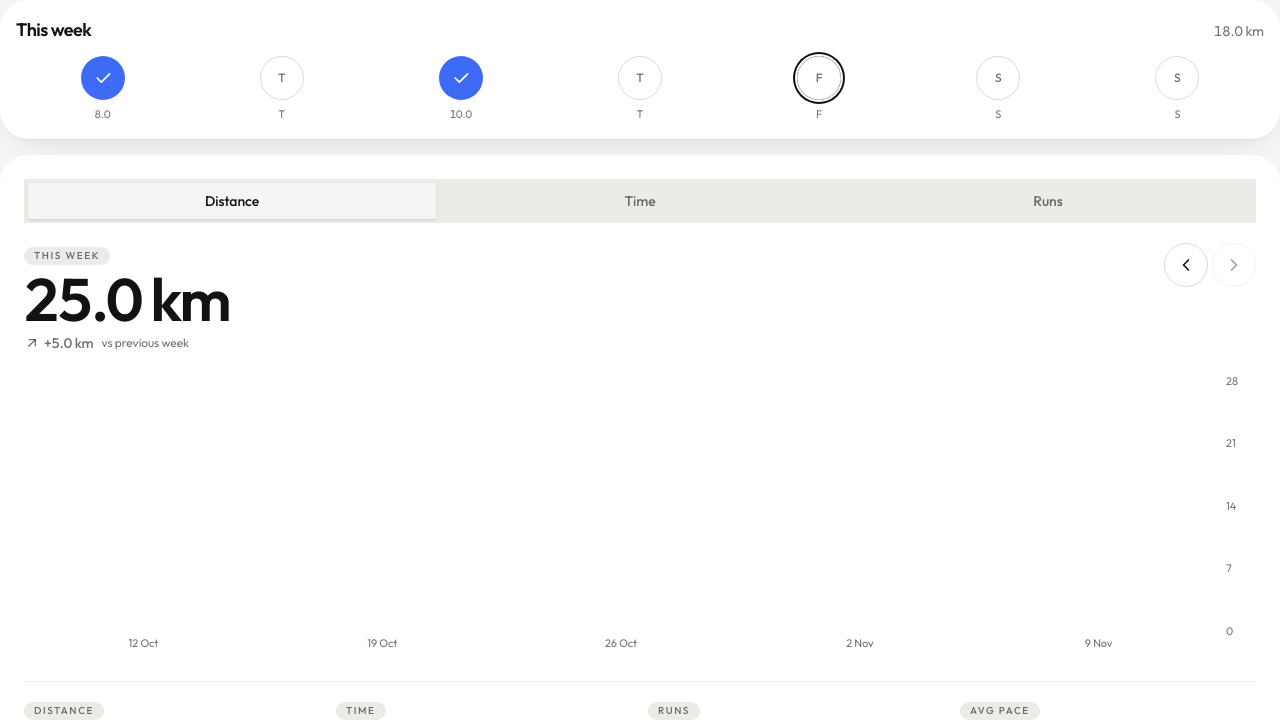
Test: ProgressHero › cannot step before the first week, which has no previous to compare
The image size is (1280, 720).
Click the button with test id "hero-previous" at (1186, 264), box top-left (1164, 242), bottom-right (1208, 286)
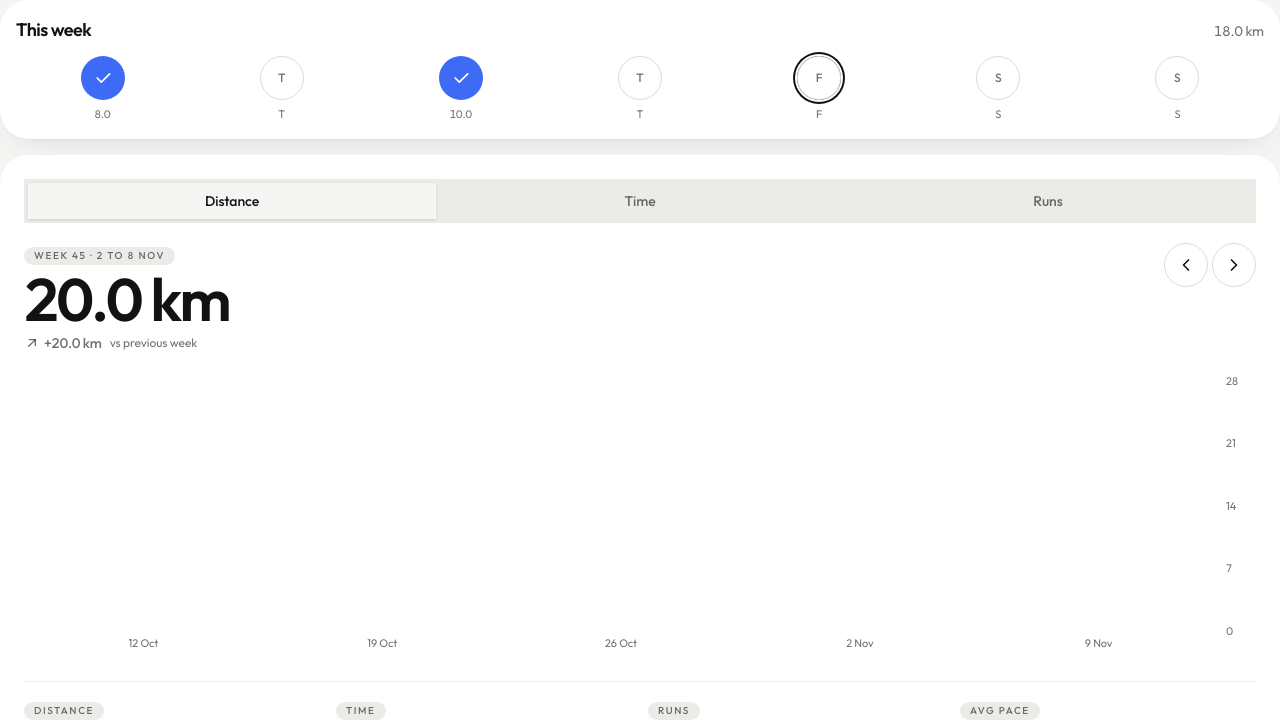
Click the button with test id "hero-previous" at (1186, 264), box top-left (1164, 242), bottom-right (1208, 286)
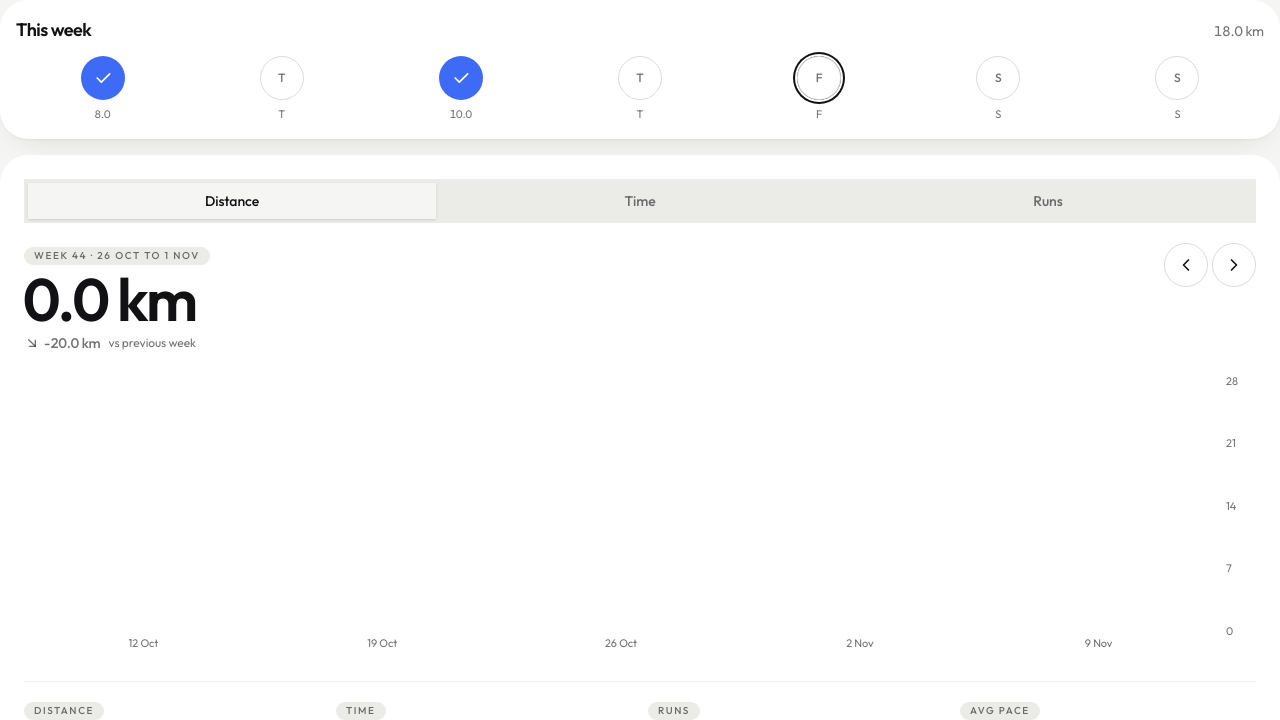
Click the button with test id "hero-previous" at (1186, 264), box top-left (1164, 242), bottom-right (1208, 286)
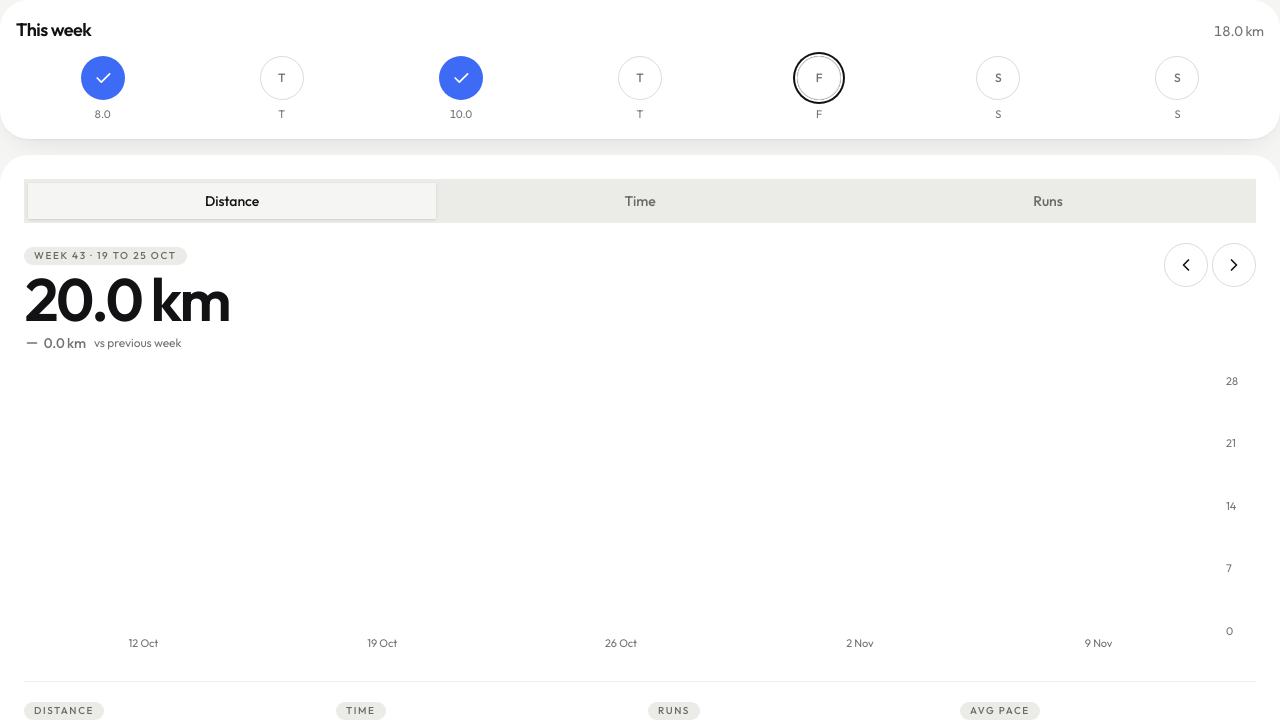
Click the button with test id "hero-previous" at (1186, 264), box top-left (1164, 242), bottom-right (1208, 286)
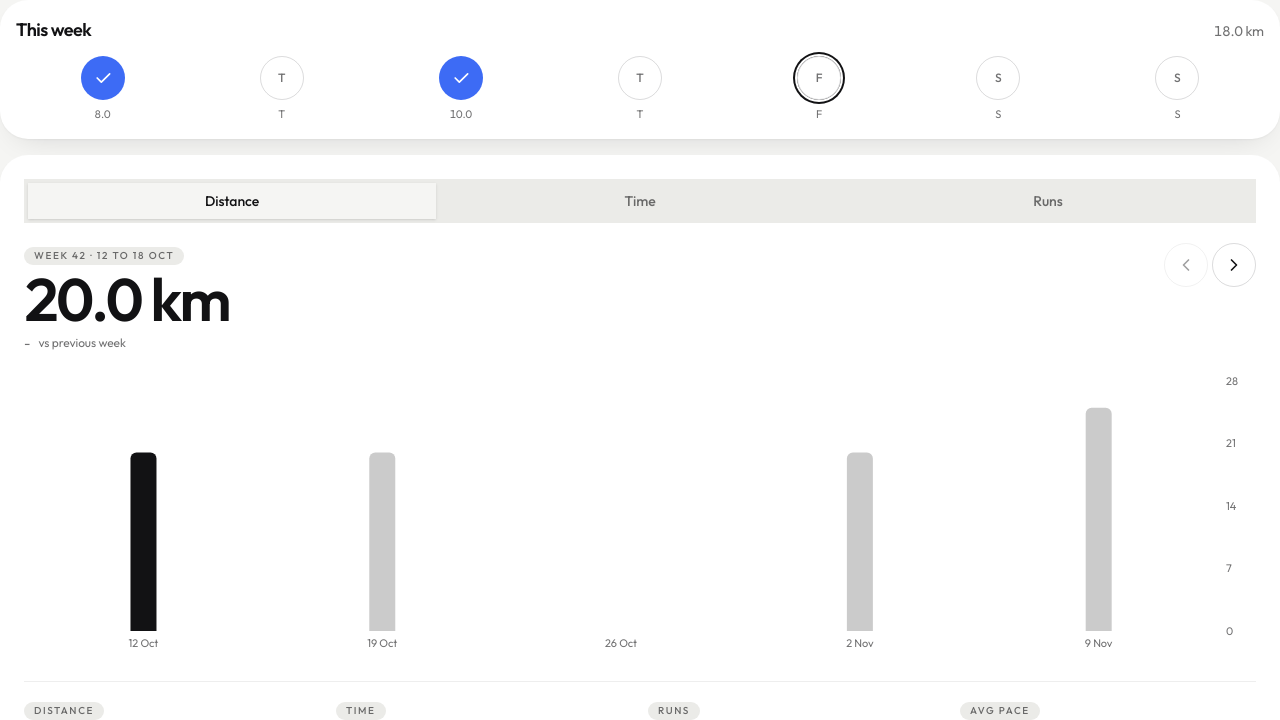
Now the text with test id "hero-delta" reads "-", box top-left (24, 334), bottom-right (30, 352)
